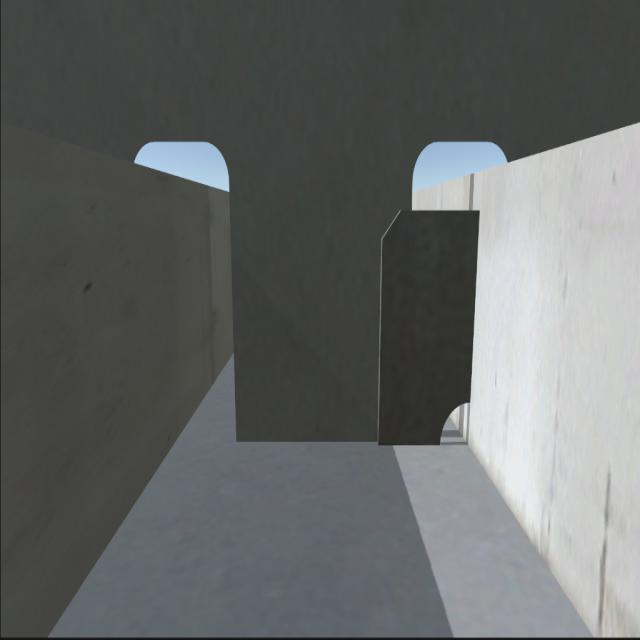fillet_hole: (436, 398, 472, 444)
fillet_yong_jeop_jang: (236, 426, 440, 454)
longi_yong_jeop_jang: (465, 210, 483, 406)
plate_CP03: (378, 203, 472, 444)
